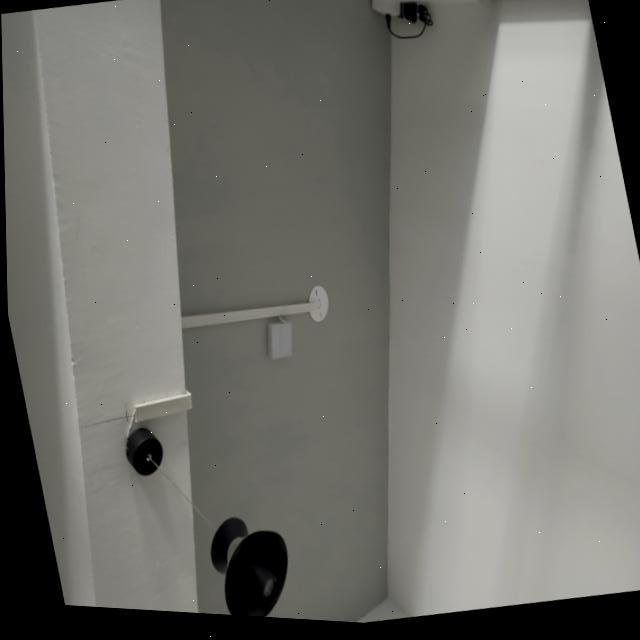fluorescent tube: (92, 405, 321, 625)
